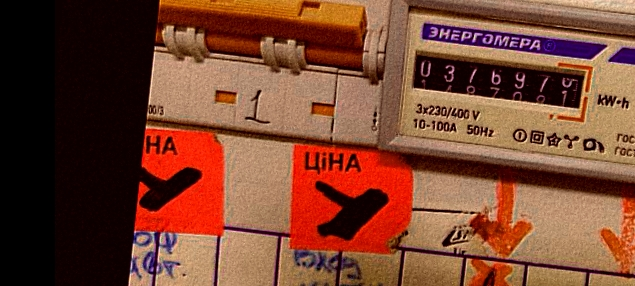0: (419, 57, 434, 79)
1: (559, 88, 572, 107)
3: (443, 62, 458, 83)
6: (490, 64, 505, 86)
7: (466, 62, 481, 85), (537, 71, 552, 94)
9: (514, 69, 528, 91)
screen: (403, 41, 599, 124)
